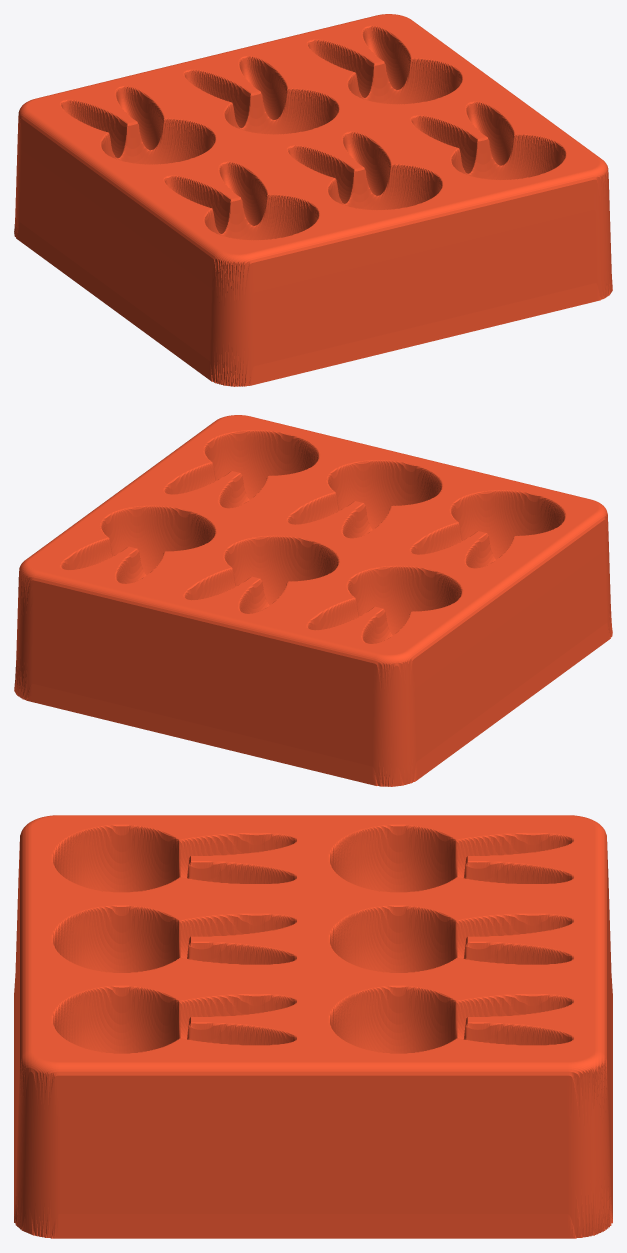
File: mold.glb
3 renders of one model, top to bottom at view 1: azimuth 30°, elevation 25°; view 2: azimuth 150°, elevation 25°; view 3: azimuth 270°, elevation 25°, orthographic. The views are drawn at different scales.
Visible parts, largest first — view 1: geometry_0; view 2: geometry_0; view 3: geometry_0.
Boxes of the visible parts, box(x1,y1,x2,y2) form: geometry_0: box(14, 14, 612, 386); geometry_0: box(14, 415, 612, 786); geometry_0: box(14, 815, 612, 1238).
Size of the model in its own units: 0.1246 by 0.0377 by 0.121.
